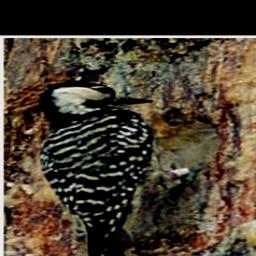Woodpecker: (28, 74, 213, 256)
